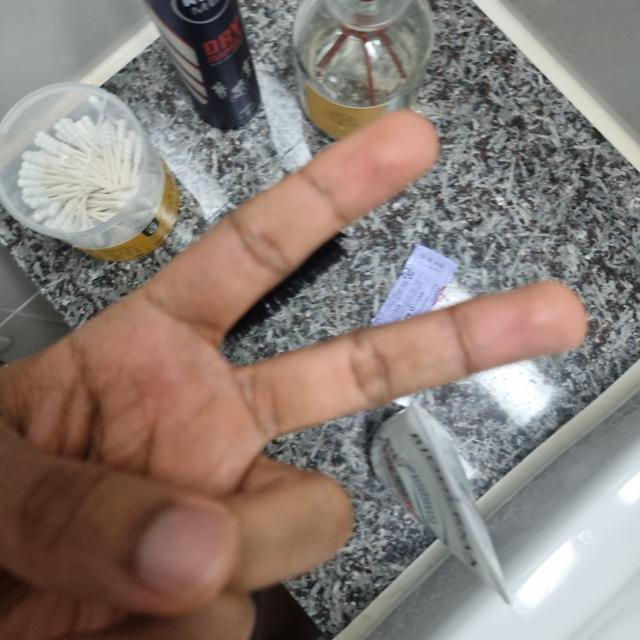Scissors: (0, 115, 586, 637)
